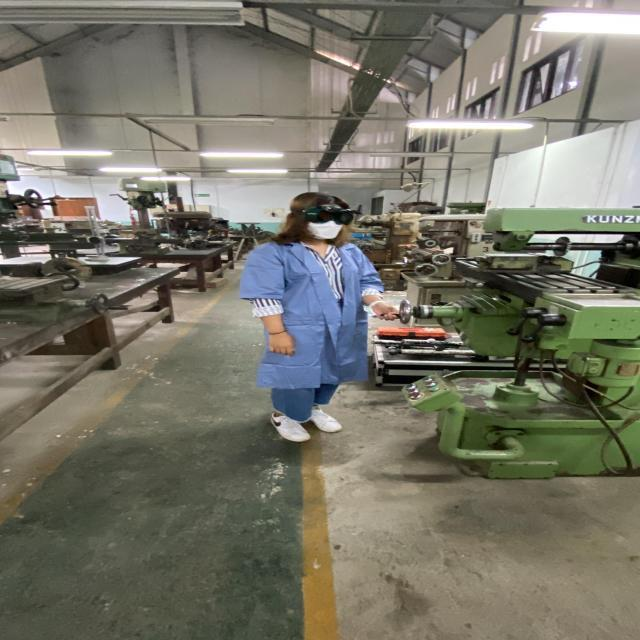glasses: (290, 204, 366, 224)
